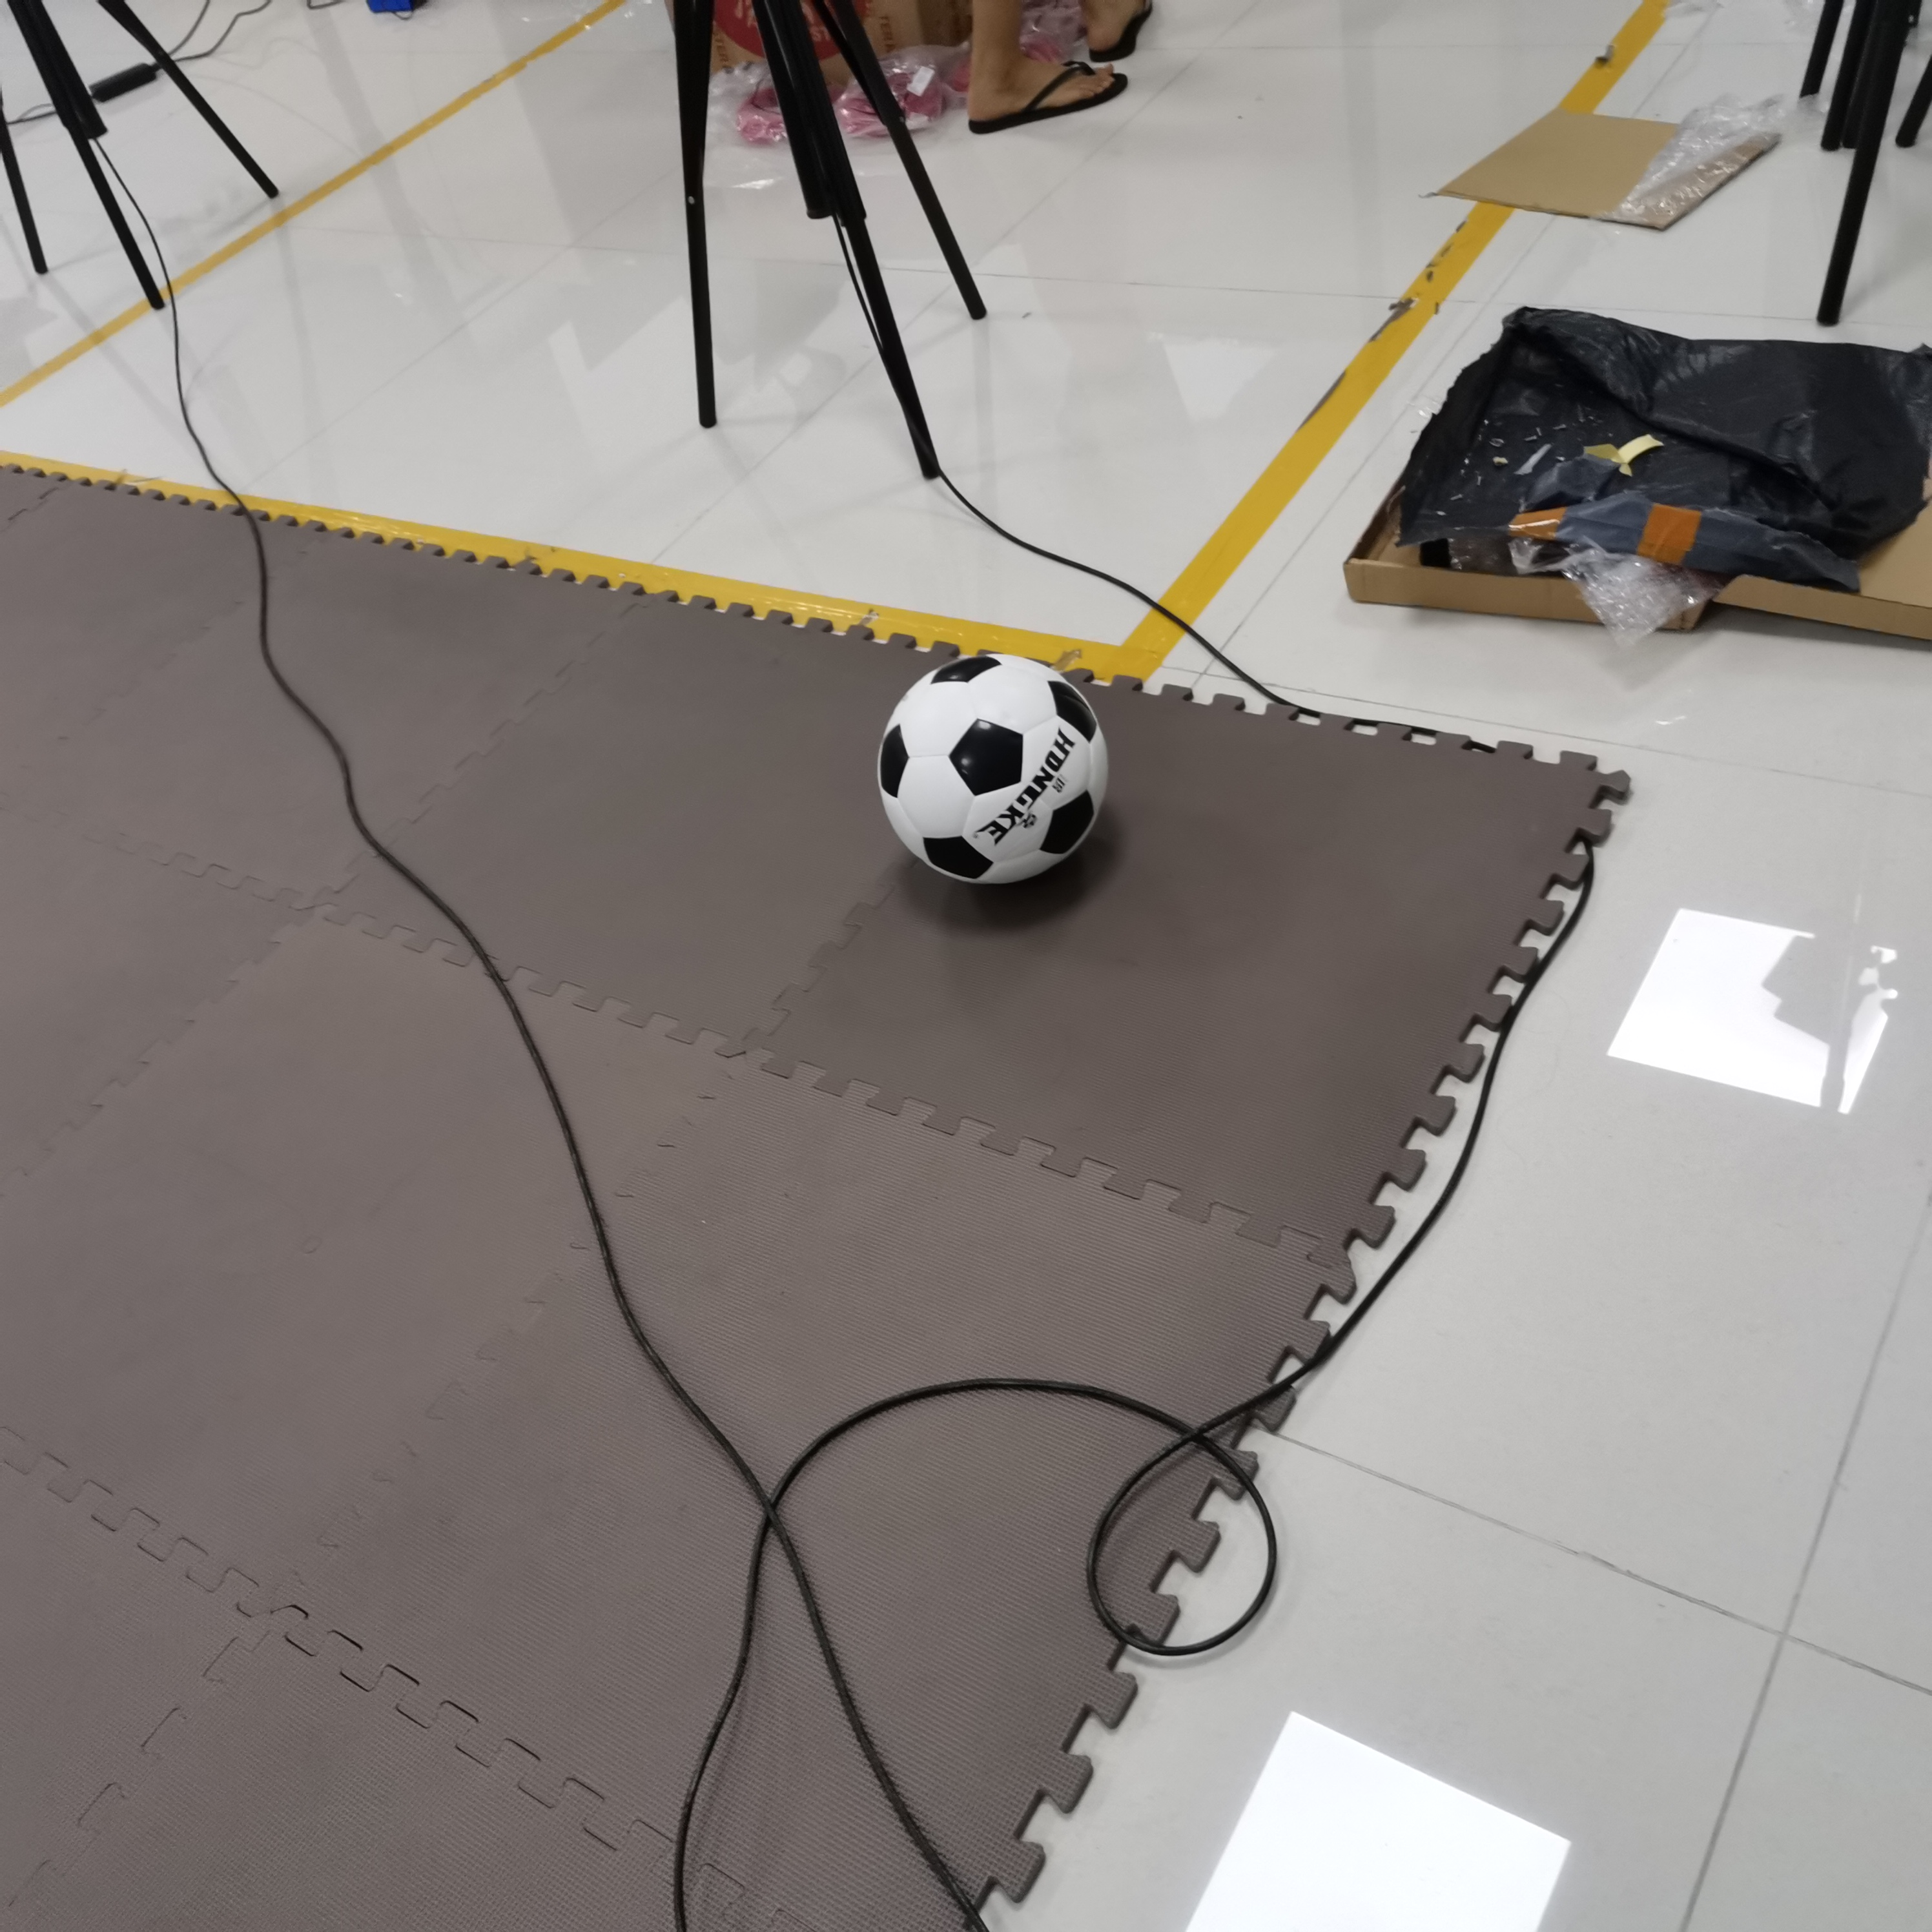football: (878, 653, 1111, 886)
